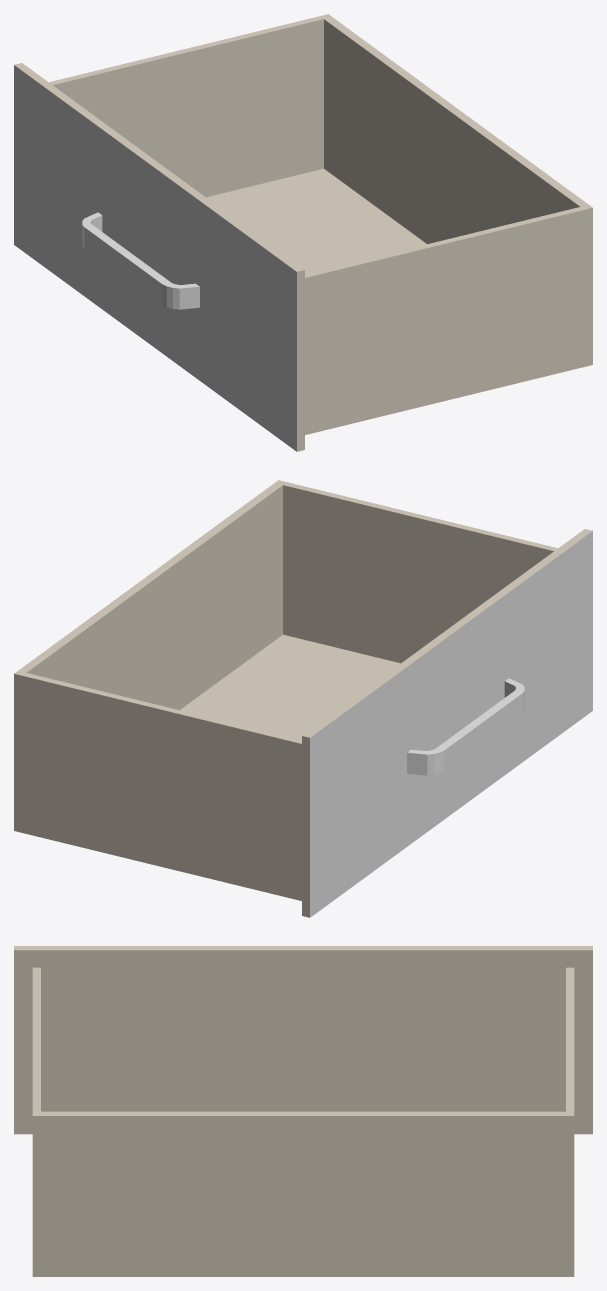
The model's file is drawer.gltf.
3 renders of one model, top to bottom at view 1: azimuth 30°, elevation 25°; view 2: azimuth 150°, elevation 25°; view 3: azimuth 270°, elevation 25°, orthographic. The views are drawn at different scales.
Parts seen in each view (by area): view 1: bake_drawerFront; view 2: bake_drawerFront; view 3: bake_drawerFront.
Boxes of the visible parts, x1,y1,x2,y2 form: bake_drawerFront: [14, 14, 592, 451]; bake_drawerFront: [14, 480, 592, 917]; bake_drawerFront: [14, 946, 592, 1276].
Size of the model in its own units: 0.3456 by 0.1762 by 0.502.
